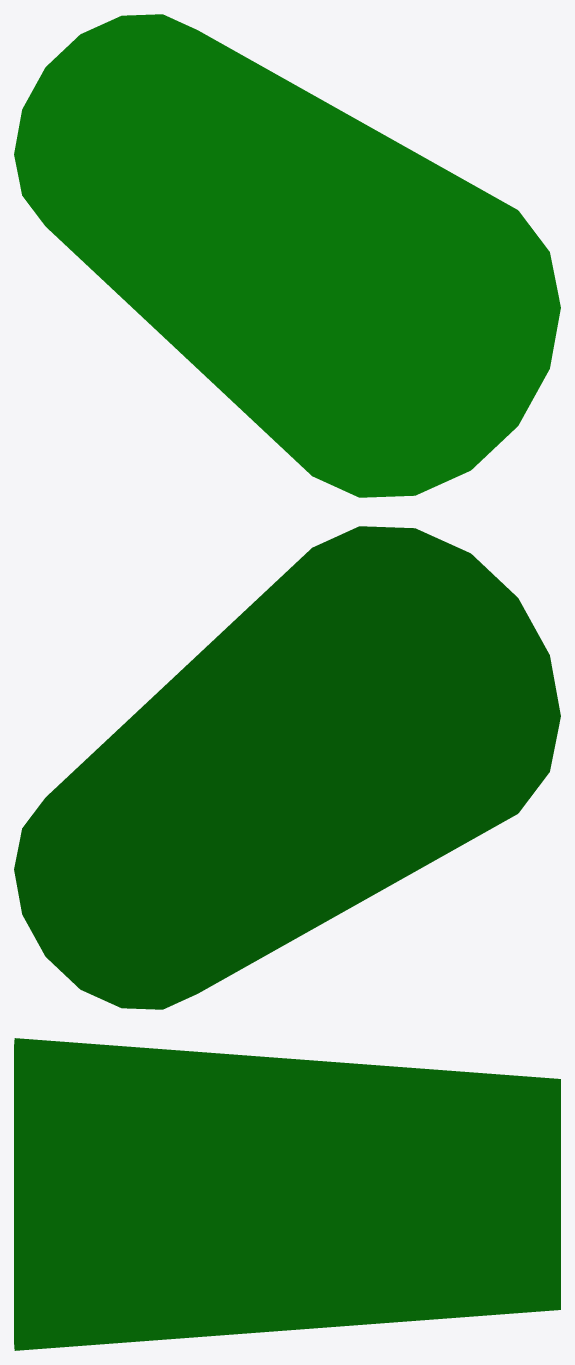
File: plastic_cup.dae
3 views of the same model, one above another, from view 1: azimuth 30°, elevation 25°; view 2: azimuth 150°, elevation 25°; view 3: azimuth 270°, elevation 25° (orthographic). The views are drawn at different scales.
Parts seen in each view (by area): view 1: Cylinder2-0; view 2: Cylinder2-0; view 3: Cylinder2-0.
Boxes of the visible parts, x1,y1,x2,y2 form: Cylinder2-0: [14, 14, 560, 497]; Cylinder2-0: [14, 526, 560, 1009]; Cylinder2-0: [14, 1038, 560, 1350].
Size of the model in its own units: 0.0745 by 0.0745 by 0.1302.
